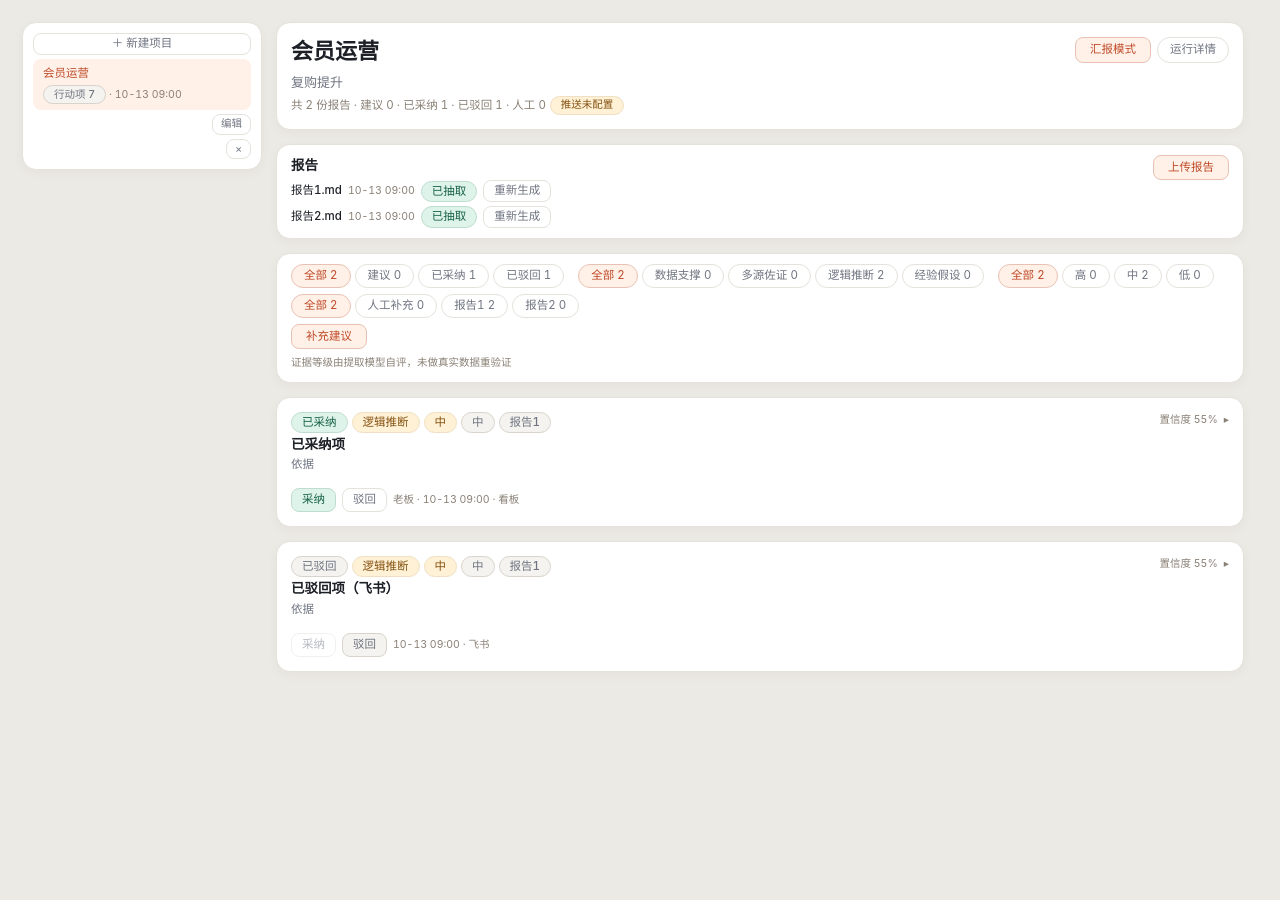
S15 空议程：无待拍板项进入不阻止；逐字文案 + 查看全部切换
Click the button "汇报模式": (1113, 50) top-left (1075, 37), bottom-right (1151, 63)
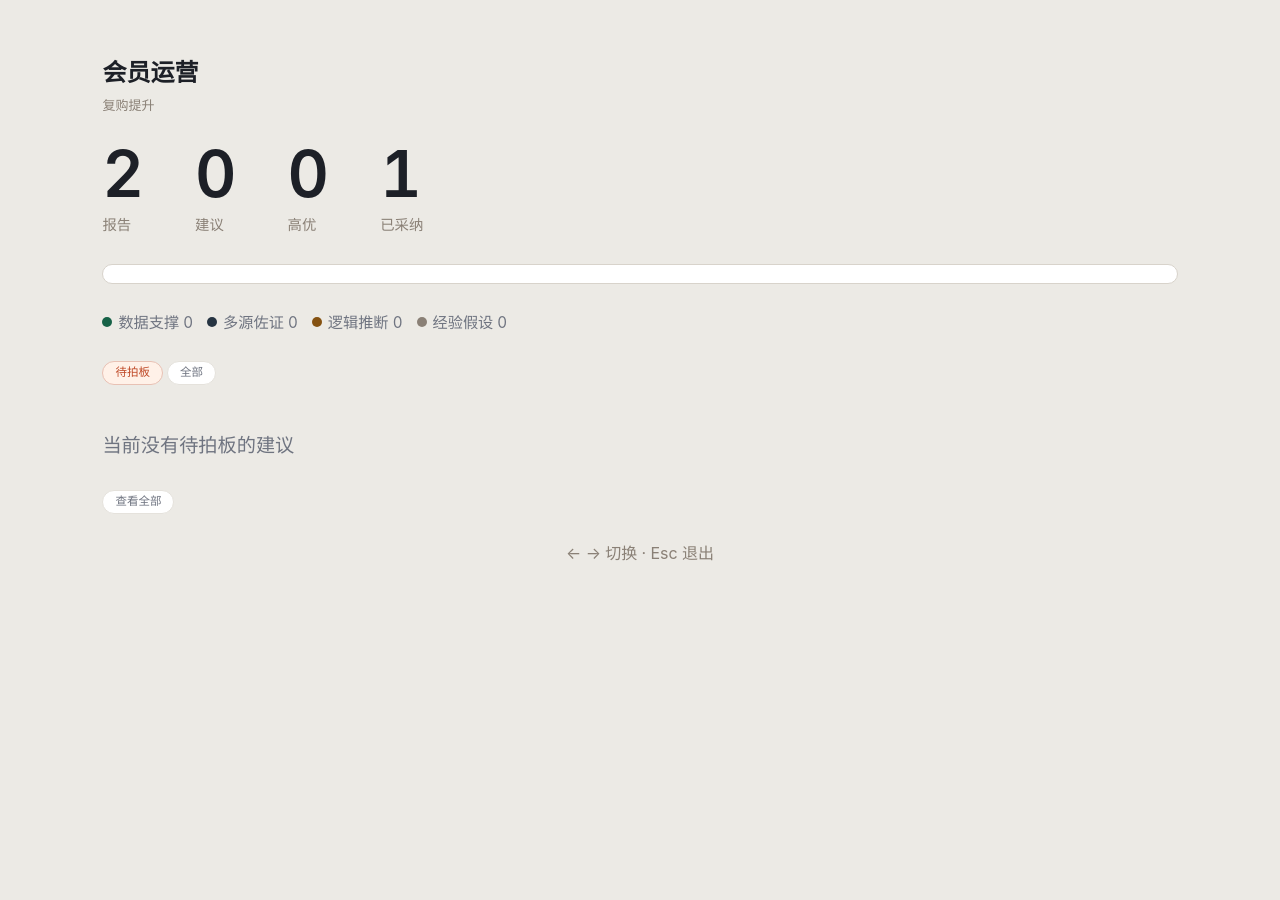
Expected: the text "当前没有待拍板的建议" is shown, top-left (102, 431), bottom-right (294, 461)
Click the button "查看全部": (138, 502) top-left (102, 490), bottom-right (174, 514)
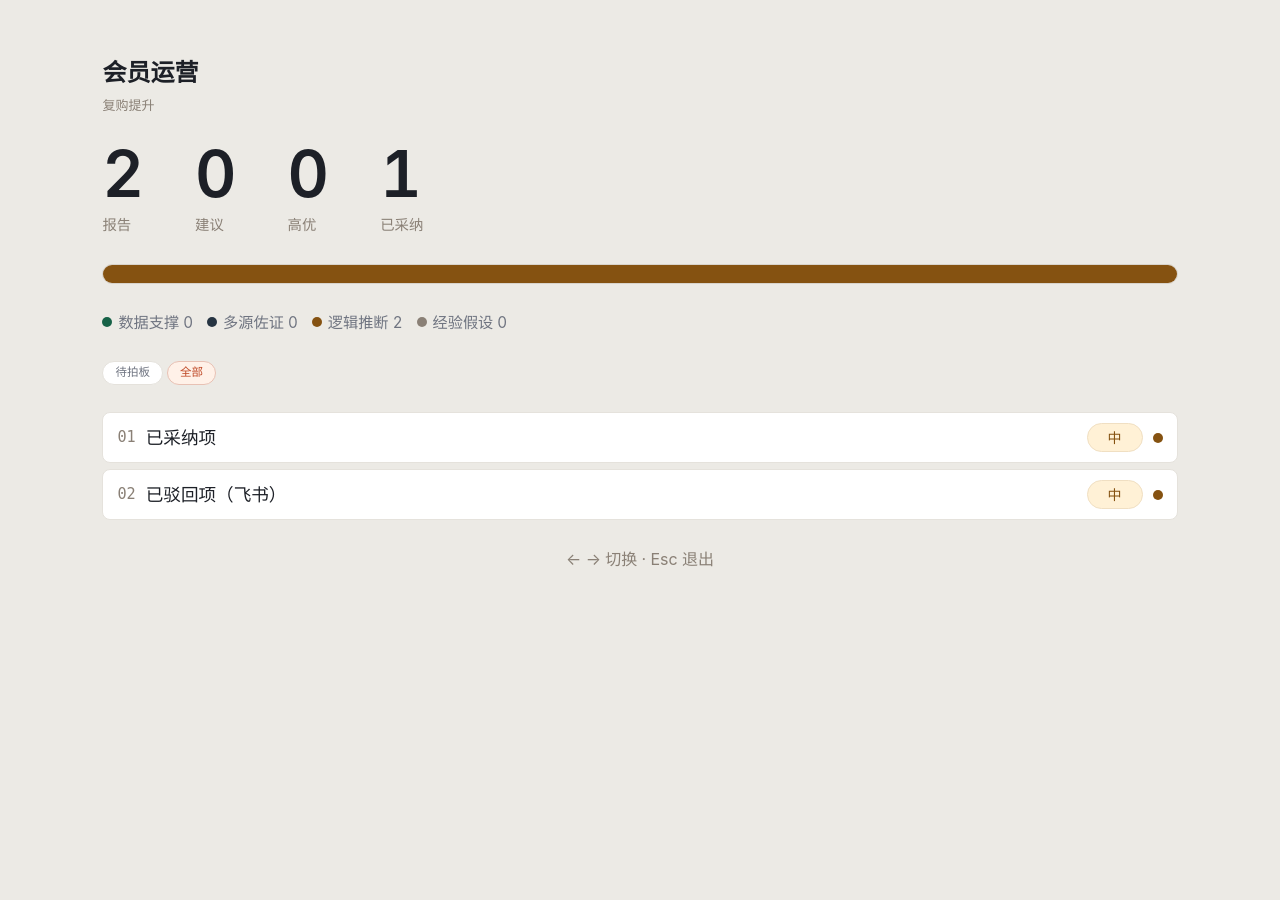
Expected: the button "01 已采纳项 中" is shown, top-left (102, 412), bottom-right (1178, 463)
